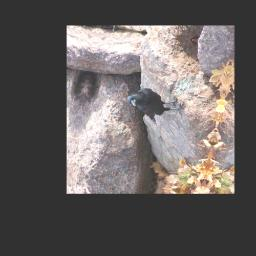Crow: (119, 85, 189, 131)
